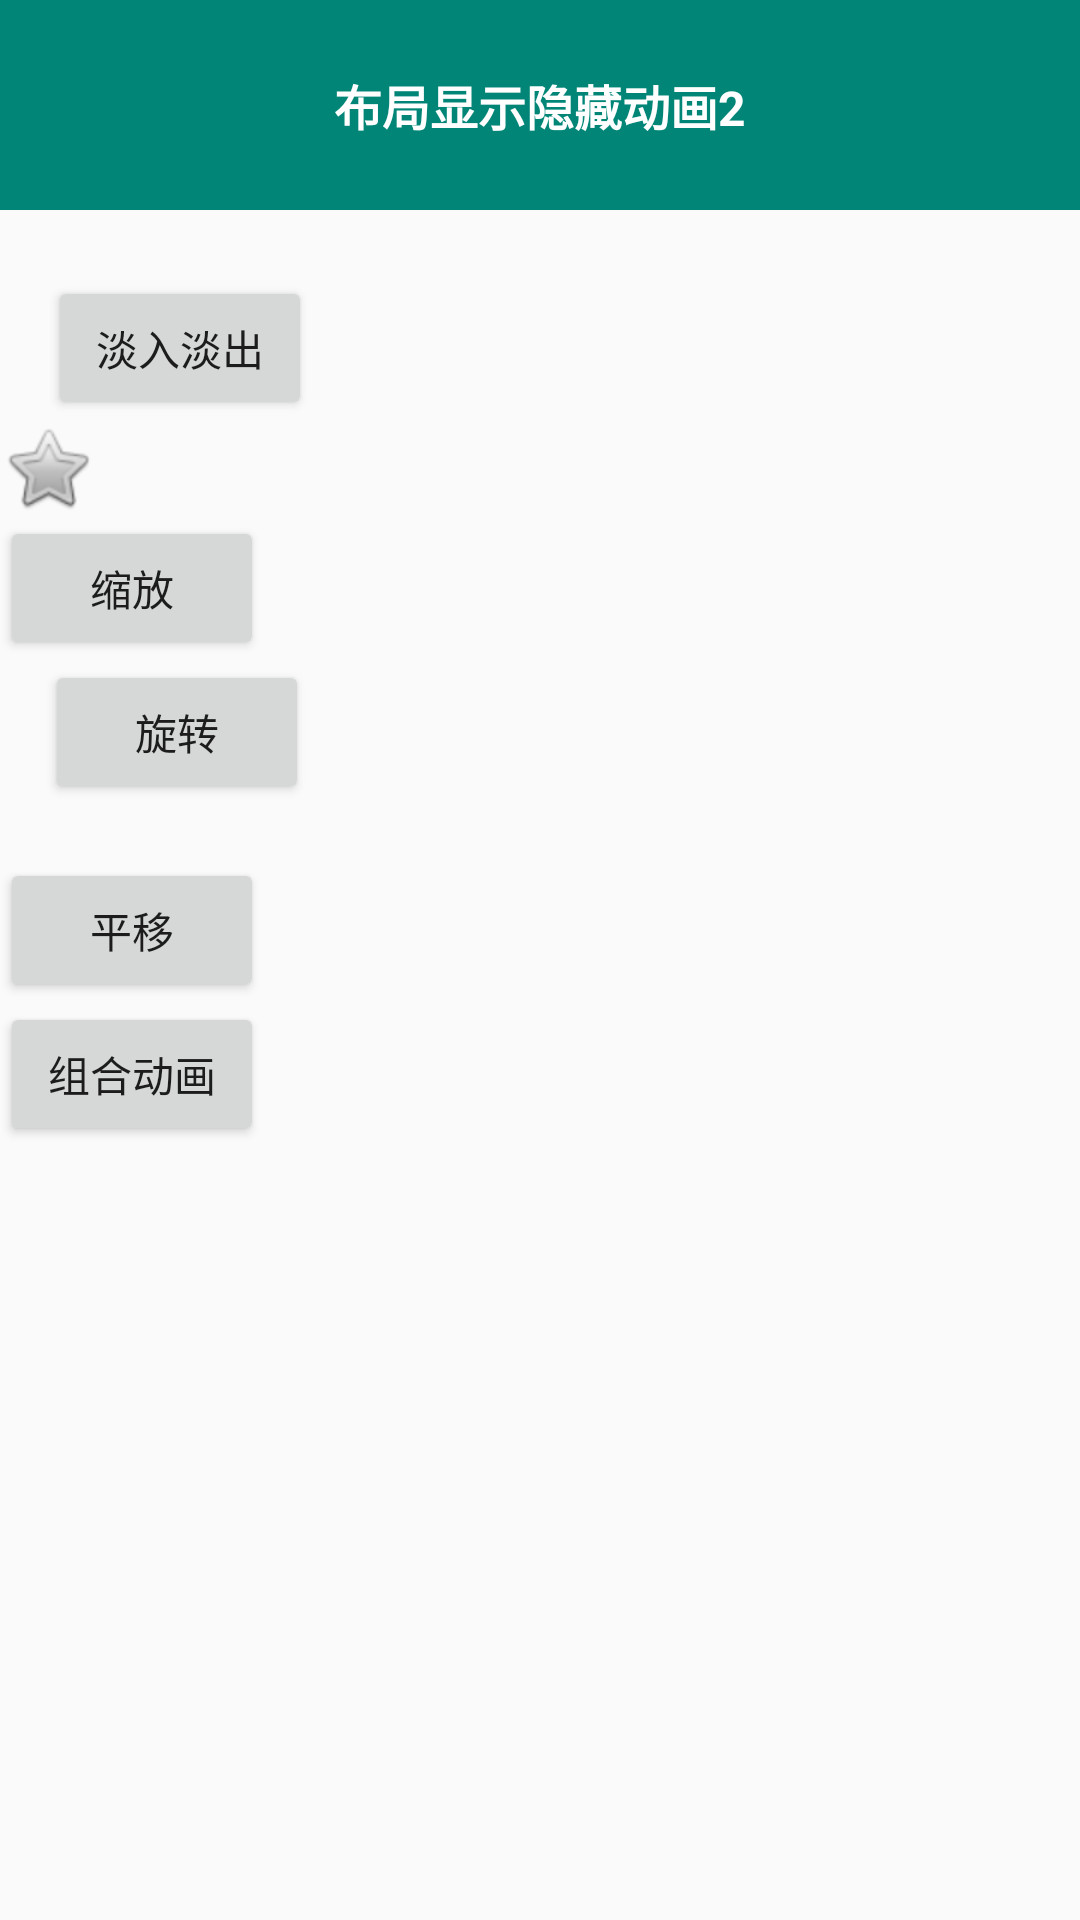

Screen size 1080w x 1920h. Icon name, then its box in pixels as (x1, y1, x2, y2):
star off: (9, 430, 89, 508)
